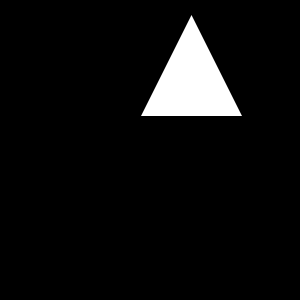triangle: (141, 15, 242, 116)
